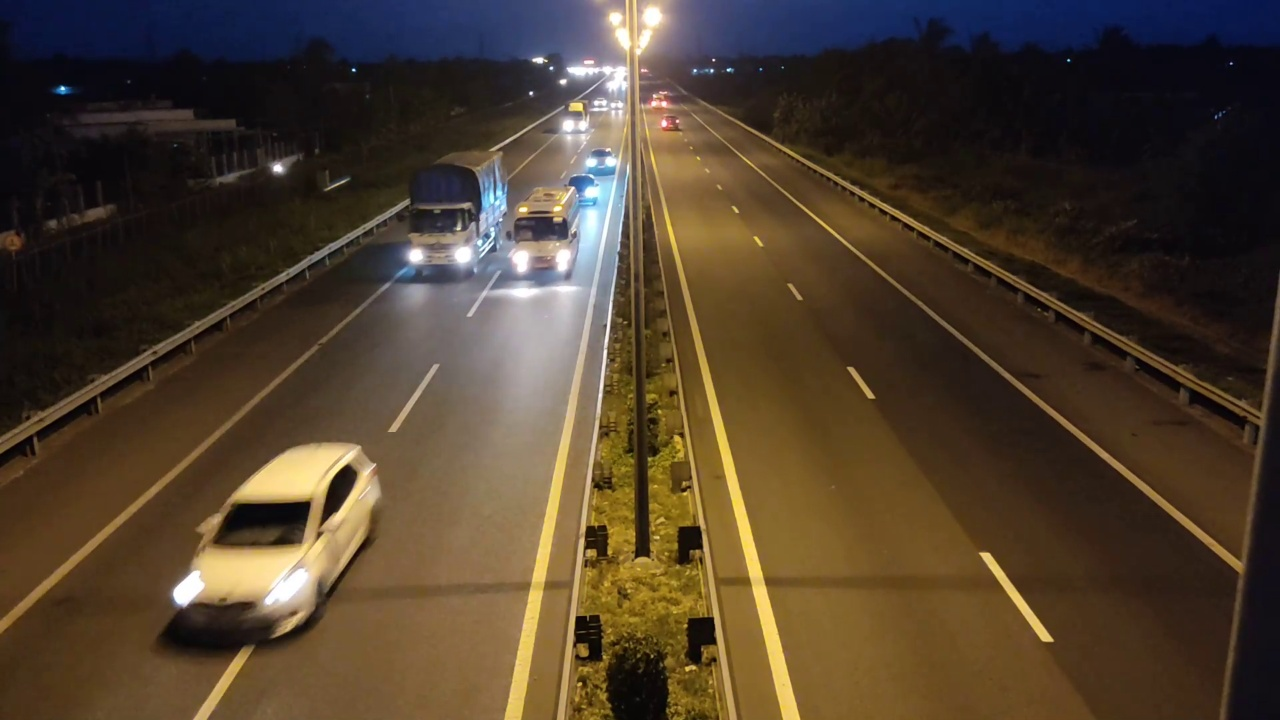car: (168, 441, 383, 645), (565, 173, 599, 205)
truck: (404, 147, 511, 281)
